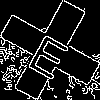E: (25, 25, 76, 81)
